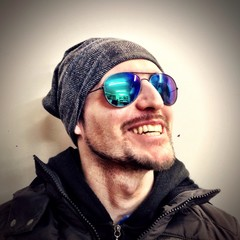young: (65, 47, 184, 177)
